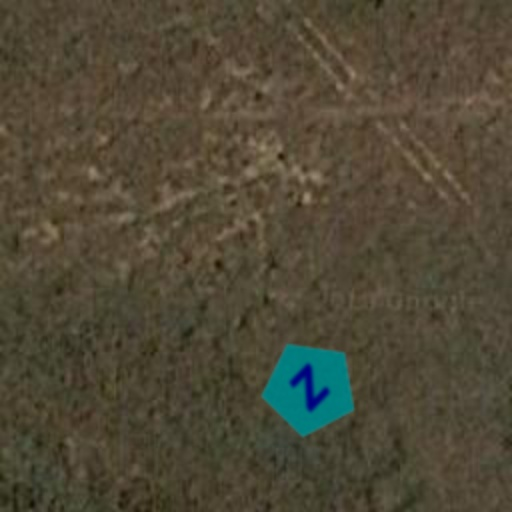pentagon: (238, 316, 382, 460)
